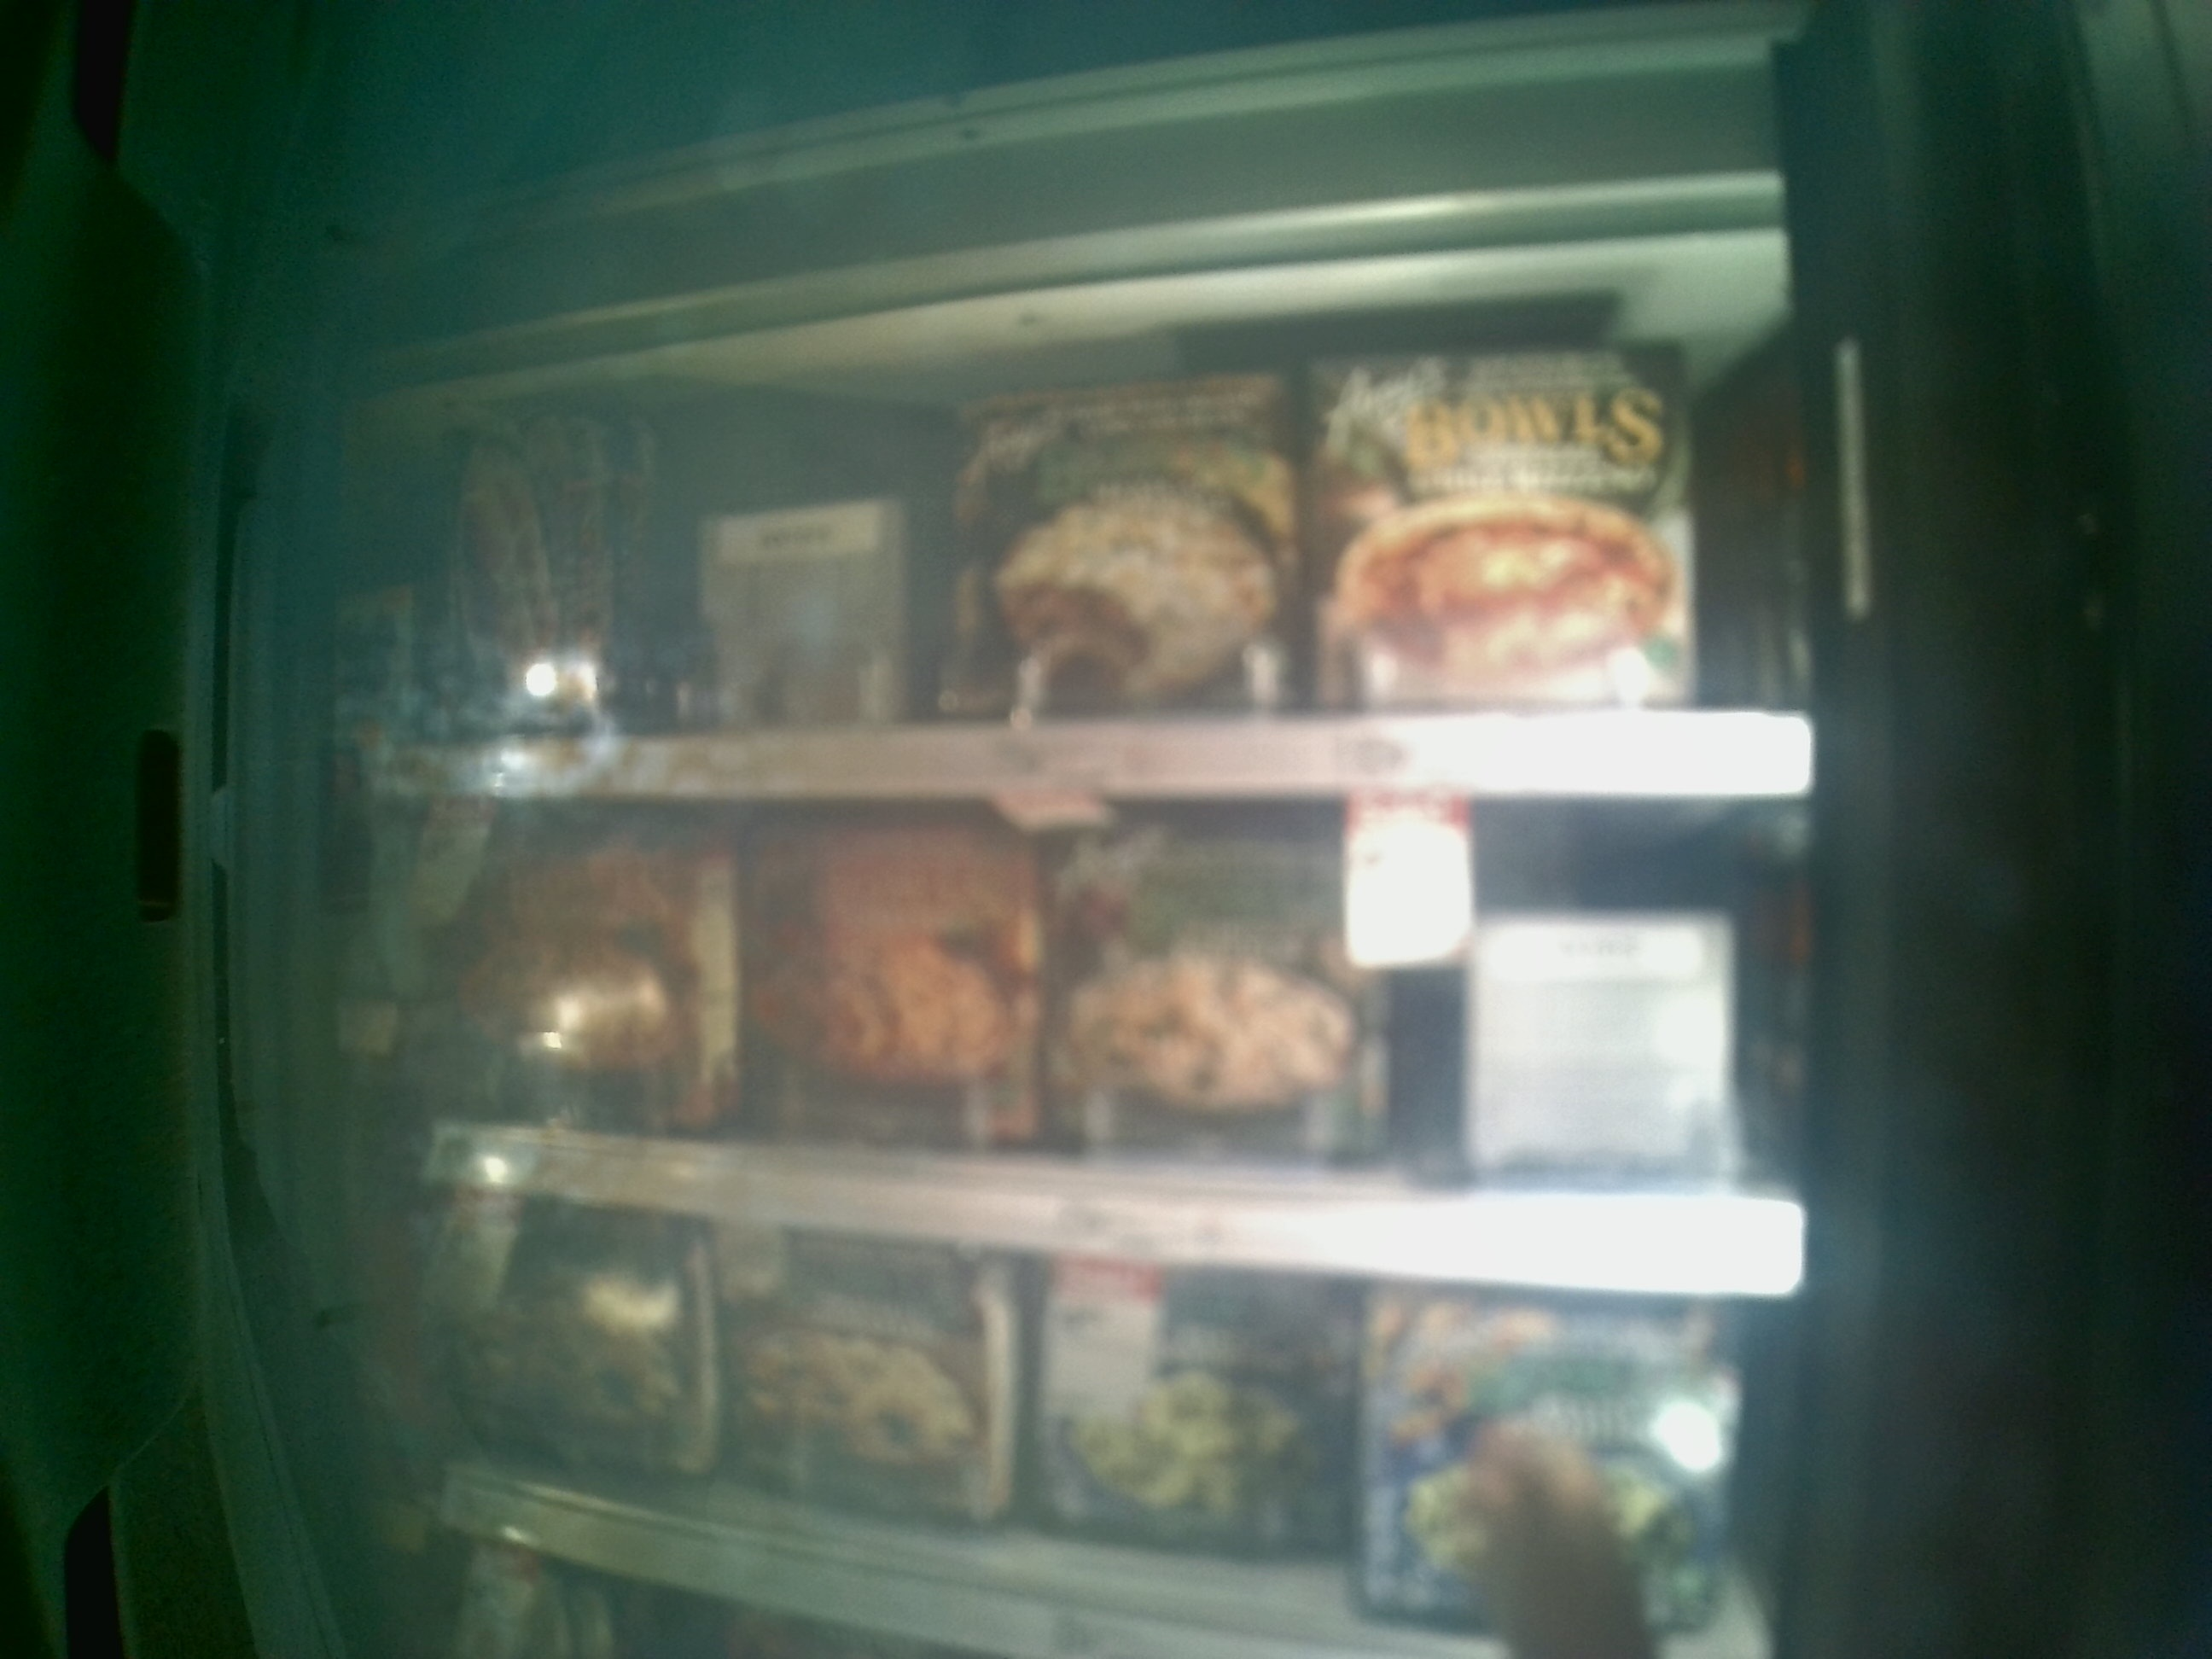frozen-food-shelf: (355, 802, 1827, 1297), (355, 392, 1827, 796)
